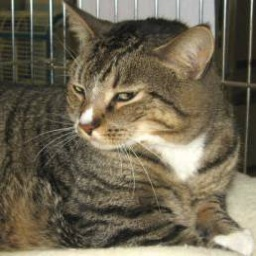cat: (0, 2, 252, 256)
